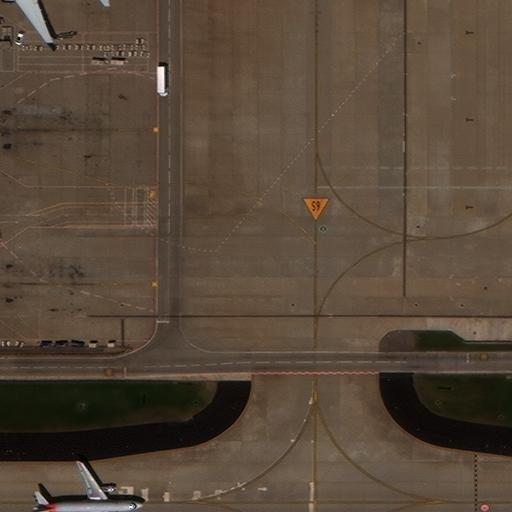Large Civil Transport: (0, 0, 93, 44)
Medium Civil Transport: (25, 458, 145, 512)
